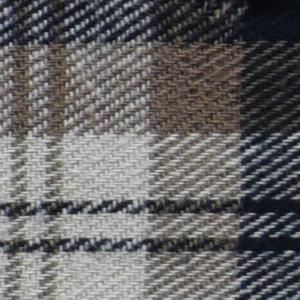Damage: (170, 35, 243, 115)
